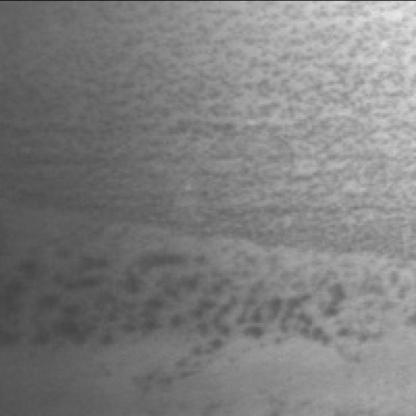pitted_surface: (0, 2, 412, 239), (0, 246, 362, 368)
